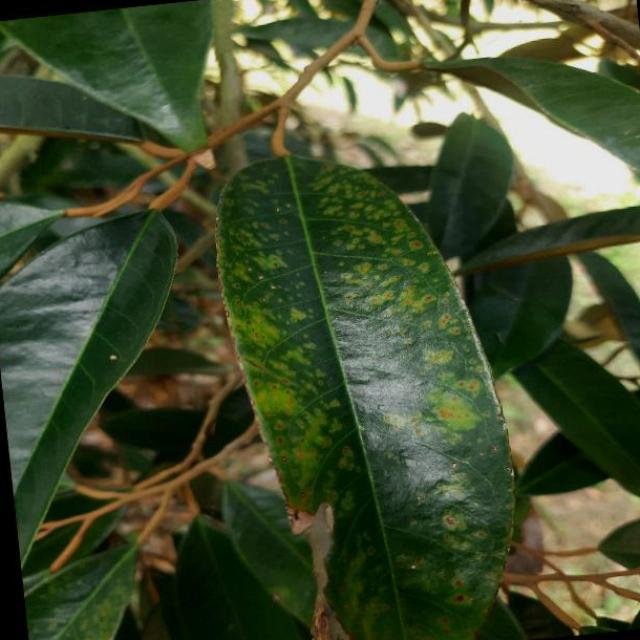Leaf Spot: (195, 119, 548, 640)
